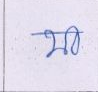i_matra: (67, 25, 79, 54)
